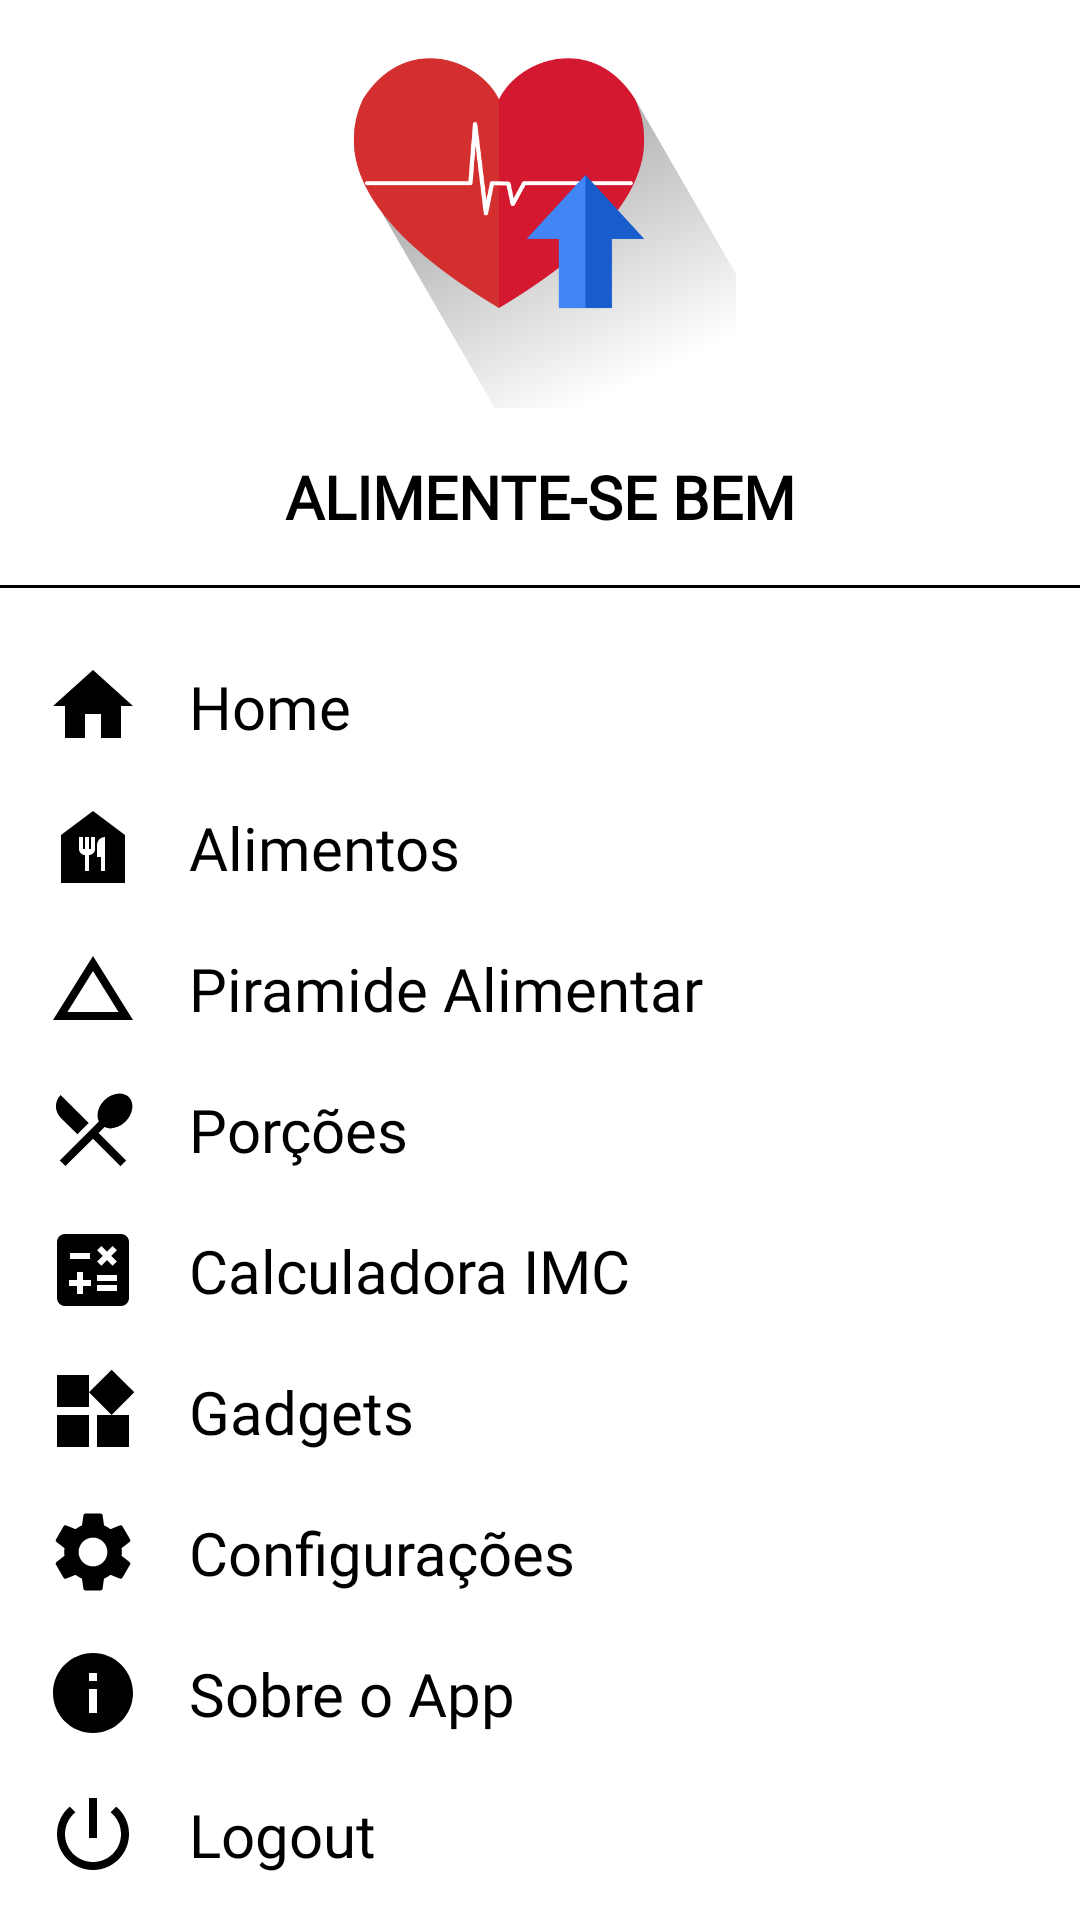

Where to tap for icons on this 1080x1920 app screen, as [x,y]:
calc imc: [93,1270]
configs: [93,1552]
info: [93,1693]
porcoes: [94,1129]
